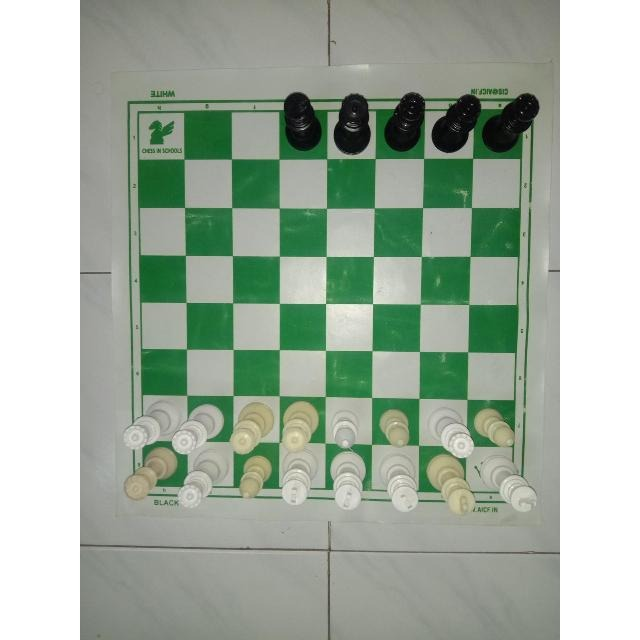black-queen: (479, 90, 538, 154), (429, 92, 481, 158), (278, 91, 322, 157), (381, 90, 424, 154), (331, 91, 371, 159)
white-bishop: (234, 453, 274, 501), (376, 405, 414, 453), (473, 407, 517, 448), (329, 407, 365, 457)
white-king: (480, 452, 538, 517), (423, 454, 479, 520), (278, 447, 322, 509), (376, 455, 420, 515), (327, 451, 366, 513)
white-queen: (121, 397, 181, 452), (178, 448, 230, 511), (120, 446, 178, 501), (169, 400, 224, 456), (228, 400, 274, 454), (279, 398, 321, 456), (426, 409, 472, 461)
